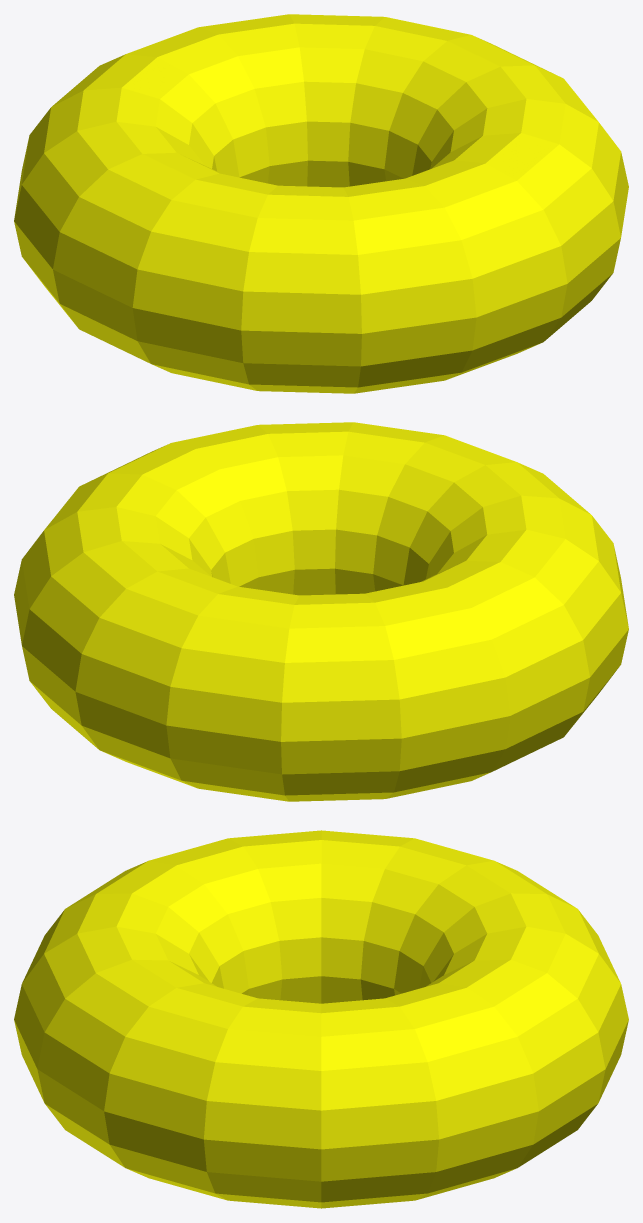
The model's file is torus_med.glb.
3 renders of one model, top to bottom at view 1: azimuth 30°, elevation 25°; view 2: azimuth 150°, elevation 25°; view 3: azimuth 270°, elevation 25°, orthographic.
Visible parts, largest first — view 1: Medium_LOD; view 2: Medium_LOD; view 3: Medium_LOD.
Part boxes in pixels (left/top/right/bottom): Medium_LOD: left=14, top=14, right=628, bottom=393; Medium_LOD: left=14, top=422, right=628, bottom=801; Medium_LOD: left=14, top=830, right=628, bottom=1208.
Size of the model in its own units: 0.6 by 0.2 by 0.6.
